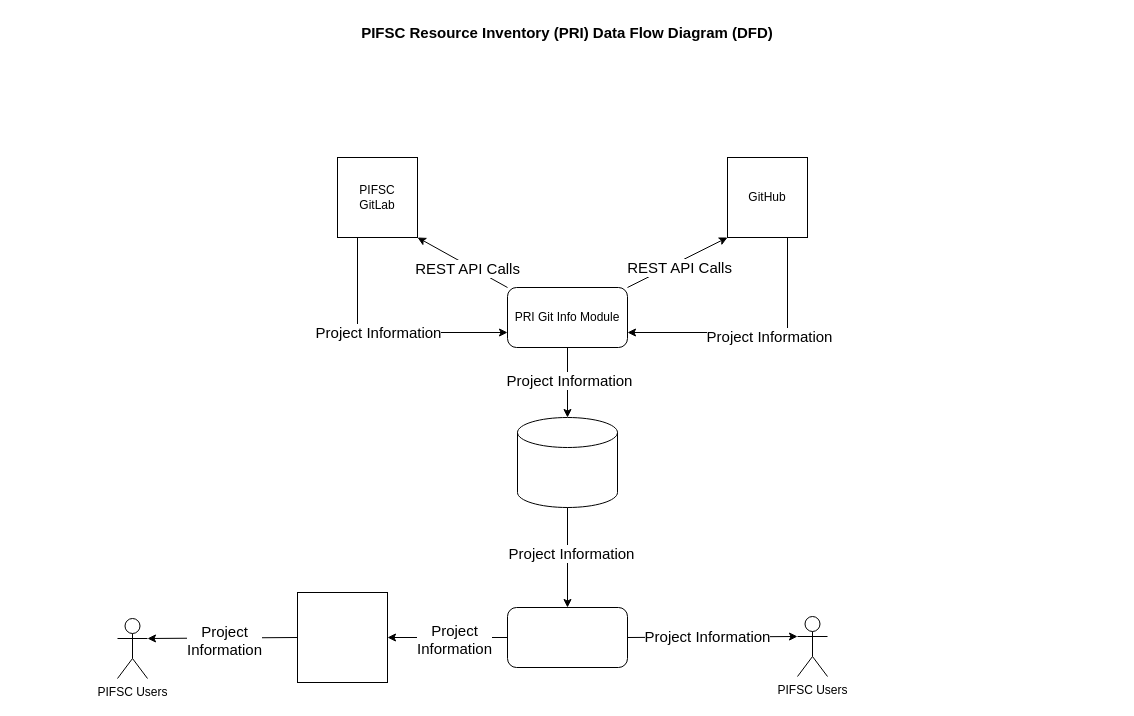
Some shapes in this 1134 by 716 pixel diagram are drawn without their labels. Here are the shapes that lost their labels. From the top down, the centre of each, then its label:
the point at 567,462: PRI DB
the point at 342,637: PI Data Enterprise Google Site
the point at 567,637: PRI Web App
